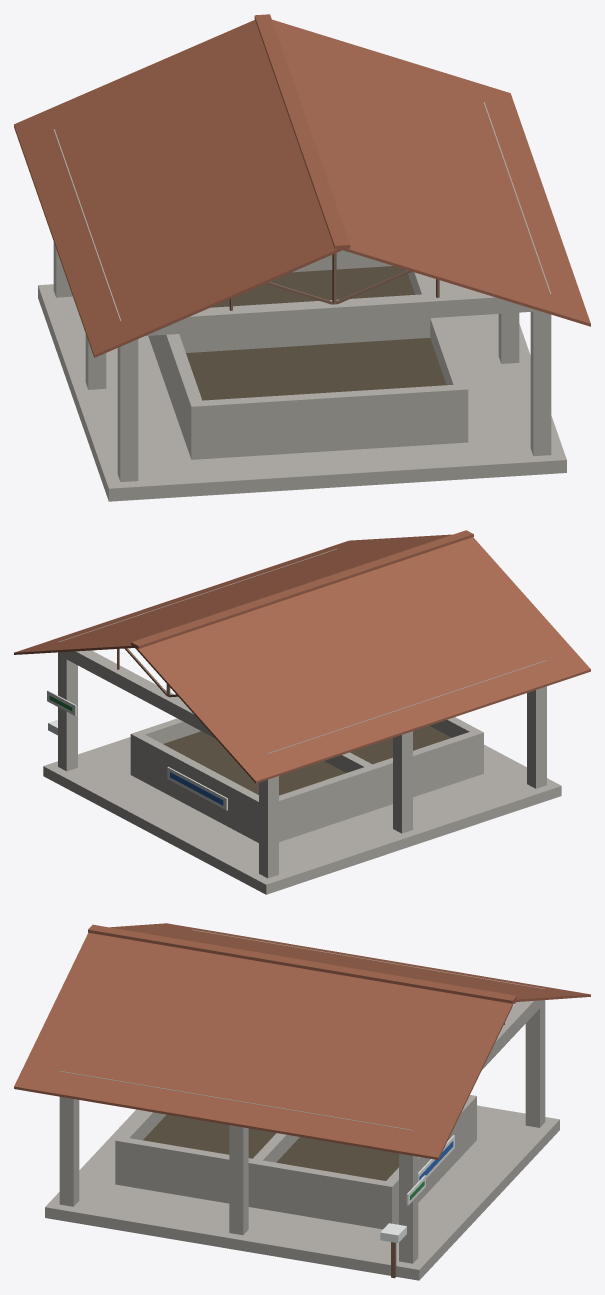
File: rares_pre_composting_area.glb
3 views of the same model, one above another, from view 1: azimuth 30°, elevation 25°; view 2: azimuth 150°, elevation 25°; view 3: azimuth 270°, elevation 25° (orthographic). The views are drawn at different scales.
Visible parts, largest first — view 1: Roof_Slope_R, Roof_Slope_L, Floor_Slab, Bin_Rear, Bin_Fill_Rear, Beam_Rear, Bin_MidPart, Bin_Fill_Front, Roof_Ridge, Col_0_0, Col_1_0, Bin_SideR (+4 smaller); view 2: Roof_Slope_R, Floor_Slab, Roof_Slope_L, Bin_SideR, Bin_Front, Roof_Ridge, Bin_Fill_Front, Beam_Front, Col_0_2, Col_1_2, Col_1_1, Col_1_0 (+5 smaller); view 3: Roof_Slope_L, Floor_Slab, Bin_SideL, Roof_Slope_R, Roof_Ridge, Bin_Fill_Front, Bin_Fill_Rear, Col_1_2, Bin_Front, Col_0_0, Col_0_1, Col_0_2 (+3 smaller).
Boxes of the visible parts, x1,y1,x2,y2 form: Roof_Slope_R: (14,20,342,357); Roof_Slope_L: (272,19,590,326); Floor_Slab: (38,277,566,501); Bin_Rear: (189,384,468,459); Bin_Fill_Rear: (186,338,446,400); Beam_Rear: (118,287,550,335); Bin_MidPart: (179,318,430,352); Bin_Fill_Front: (211,266,414,307); Roof_Ridge: (254,14,350,249); Col_0_0: (530,286,551,456); Col_1_0: (117,314,138,481); Bin_SideR: (148,334,204,459); Roof_Slope_R: (135,537,590,783); Floor_Slab: (43,737,561,894); Roof_Slope_L: (14,534,451,654); Bin_SideR: (279,729,483,841); Bin_Front: (130,732,258,842); Roof_Ridge: (131,530,473,648); Bin_Fill_Front: (163,731,345,795); Beam_Front: (60,638,278,753); Col_0_2: (58,639,77,771); Col_1_2: (259,750,278,878); Col_1_1: (393,705,412,833); Col_1_0: (527,686,546,788); Roof_Slope_L: (14,932,514,1159); Floor_Slab: (45,1105,559,1280); Bin_SideL: (115,1136,395,1229); Roof_Slope_R: (110,923,590,1001); Roof_Ridge: (88,924,516,1003); Bin_Fill_Front: (276,1137,398,1180); Bin_Fill_Rear: (143,1114,276,1158); Col_1_2: (525,987,545,1127); Bin_Front: (382,1095,476,1224); Col_0_0: (59,1071,79,1206); Col_0_1: (229,1099,248,1235); Col_0_2: (399,1130,418,1263).
Size of the model in its own units: 10.3 by 4.33 by 10.72.
